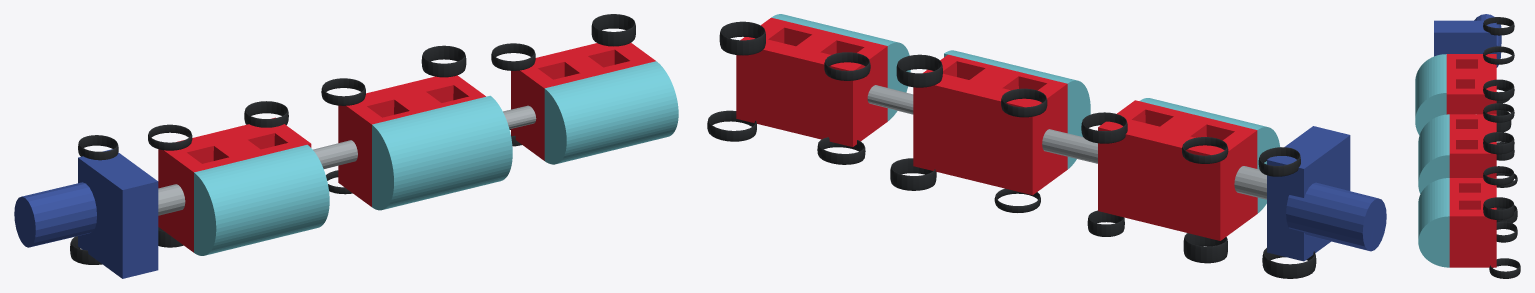
Rendered from tinker.obj.
The picture shows the model from 3 angles, left to right: view 1: azimuth 30°, elevation 25°; view 2: azimuth 150°, elevation 25°; view 3: azimuth 270°, elevation 25°; orthographic projection. The views are drawn at different scales.
Visible parts, largest first — view 1: group_0_7720667, group_0_15277357, group_0_3888547, group_0_2829873, group_0_10988977; view 2: group_0_15277357, group_0_2829873, group_0_3888547, group_0_7720667, group_0_10988977; view 3: group_0_15277357, group_0_7720667, group_0_2829873, group_0_3888547.
Boxes of the visible parts, x1,y1,x2,y2 form: group_0_7720667: (194, 61, 678, 255); group_0_15277357: (158, 43, 655, 252); group_0_3888547: (14, 149, 158, 278); group_0_2829873: (70, 14, 635, 264); group_0_10988977: (158, 105, 536, 215); group_0_15277357: (736, 17, 1257, 240); group_0_2829873: (707, 21, 1316, 278); group_0_3888547: (1267, 126, 1386, 261); group_0_7720667: (771, 14, 1279, 213); group_0_10988977: (867, 85, 1266, 199); group_0_15277357: (1446, 54, 1496, 267); group_0_7720667: (1415, 54, 1449, 267); group_0_2829873: (1483, 17, 1520, 278); group_0_3888547: (1434, 14, 1501, 67).
Bounding box in the file's own units: 162 × 29 × 33.65.
